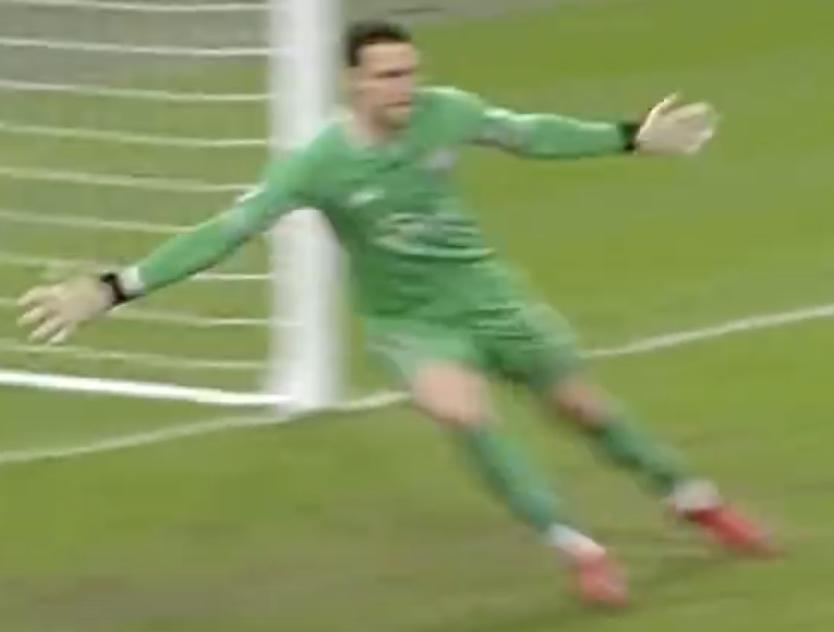goalkeeper: (0, 0, 832, 626)
